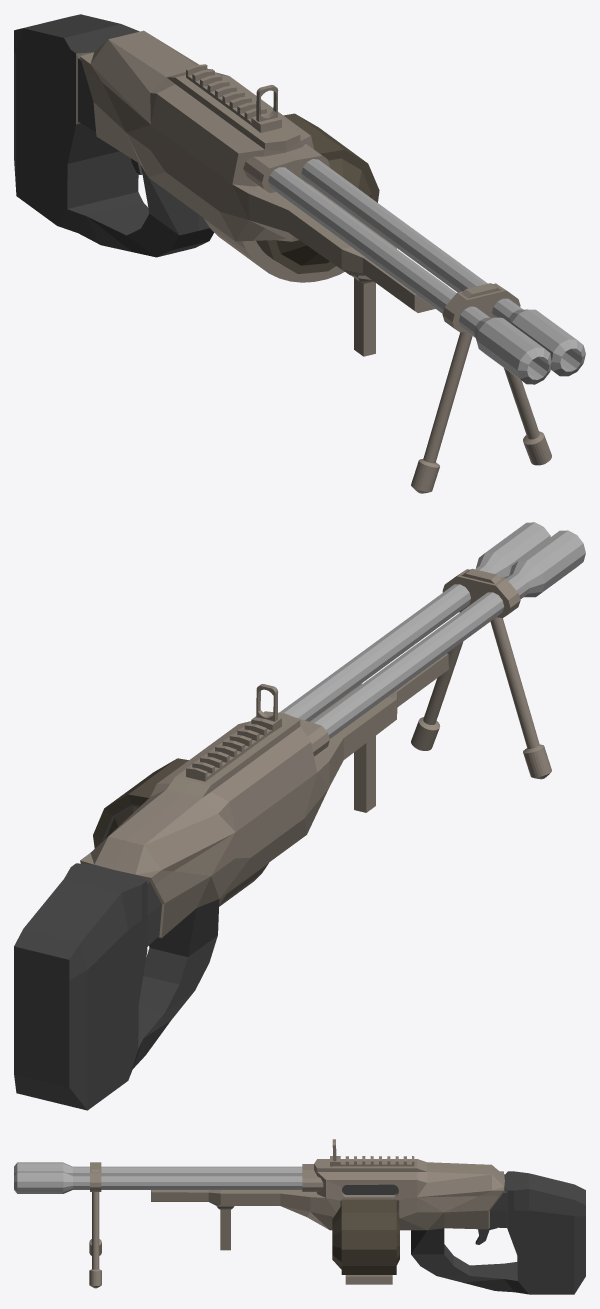
The model's file is HeavyMachinegun.fbx.
3 views of the same model, one above another, from view 1: azimuth 30°, elevation 25°; view 2: azimuth 150°, elevation 25°; view 3: azimuth 270°, elevation 25° (orthographic). The views are drawn at different scales.
Visible parts, largest first — view 1: Body, RightBarrel, LeftBarrel, Drum; view 2: Body, RightBarrel, LeftBarrel, Drum; view 3: Body, Drum, LeftBarrel, RightBarrel.
Part boxes in pixels (x1,y1,x2,y2): Body: [14, 14, 551, 493]; RightBarrel: [268, 167, 551, 384]; LeftBarrel: [301, 159, 585, 376]; Drum: [256, 113, 379, 273]; Body: [14, 568, 551, 1110]; RightBarrel: [311, 530, 585, 738]; LeftBarrel: [279, 522, 550, 721]; Drum: [93, 758, 188, 848]; Body: [89, 1139, 585, 1294]; Drum: [332, 1199, 399, 1274]; LeftBarrel: [14, 1171, 302, 1193]; RightBarrel: [14, 1162, 302, 1175].
Size of the model in its own units: 29.51 by 38.77 by 140.
